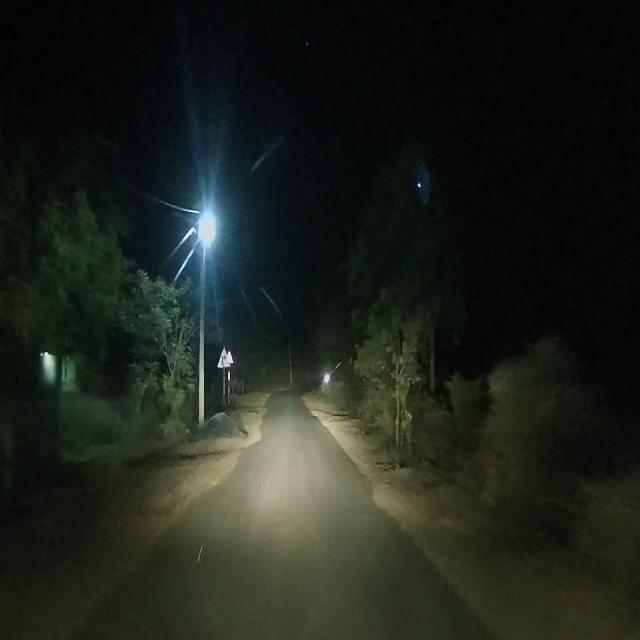right-hand-curve: (218, 346, 229, 368)
